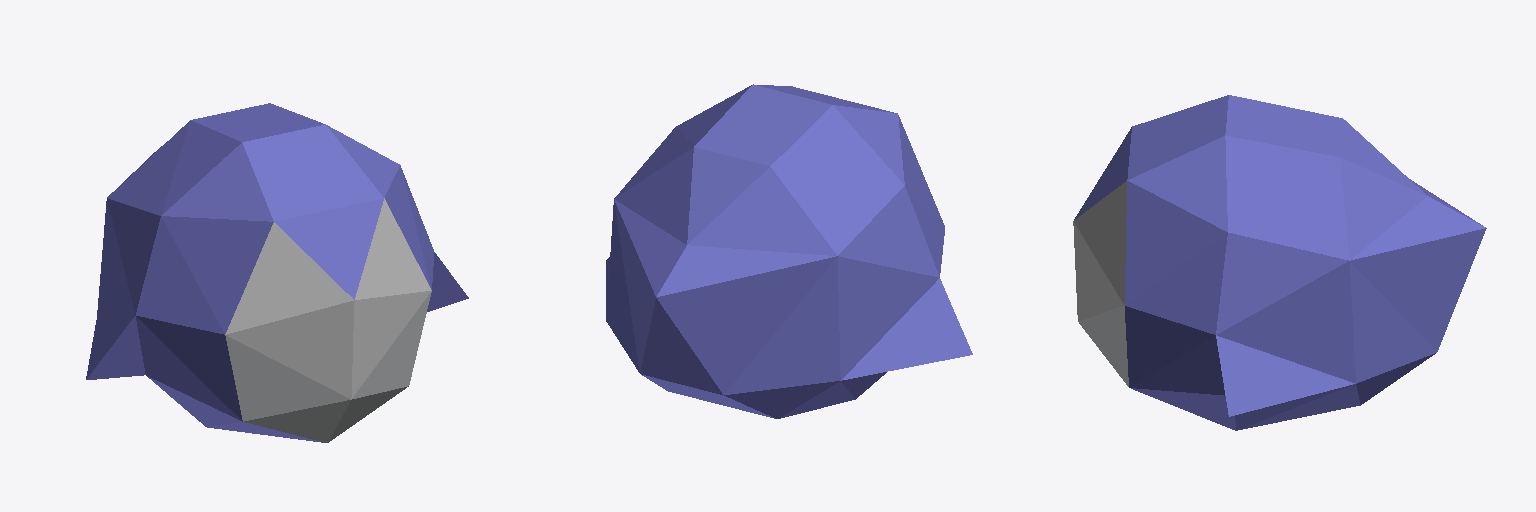
Rendered from boo.obj.
3 views of the same model, side by side, from view 1: azimuth 30°, elevation 25°; view 2: azimuth 150°, elevation 25°; view 3: azimuth 270°, elevation 25° (orthographic).
Size of the model in its own units: 16.3 by 11.78 by 15.55.